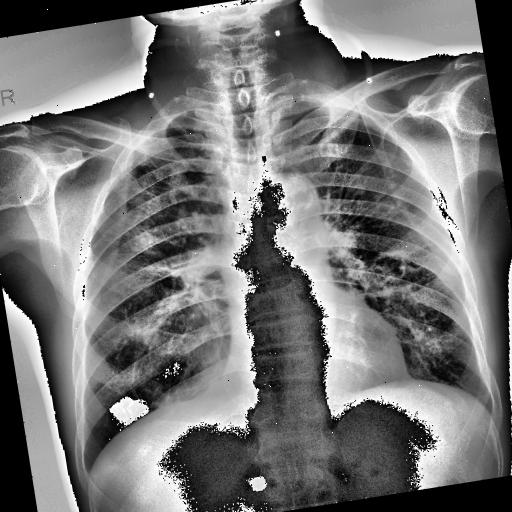0- Aortic enlargement: (256, 166, 324, 246), (250, 164, 322, 232), (262, 167, 325, 238)
13- Pulmonary fibrosis: (114, 256, 222, 348), (355, 240, 429, 314)
7- Lung Opacity: (106, 148, 210, 277)
9- Other lesion: (368, 249, 412, 285)
